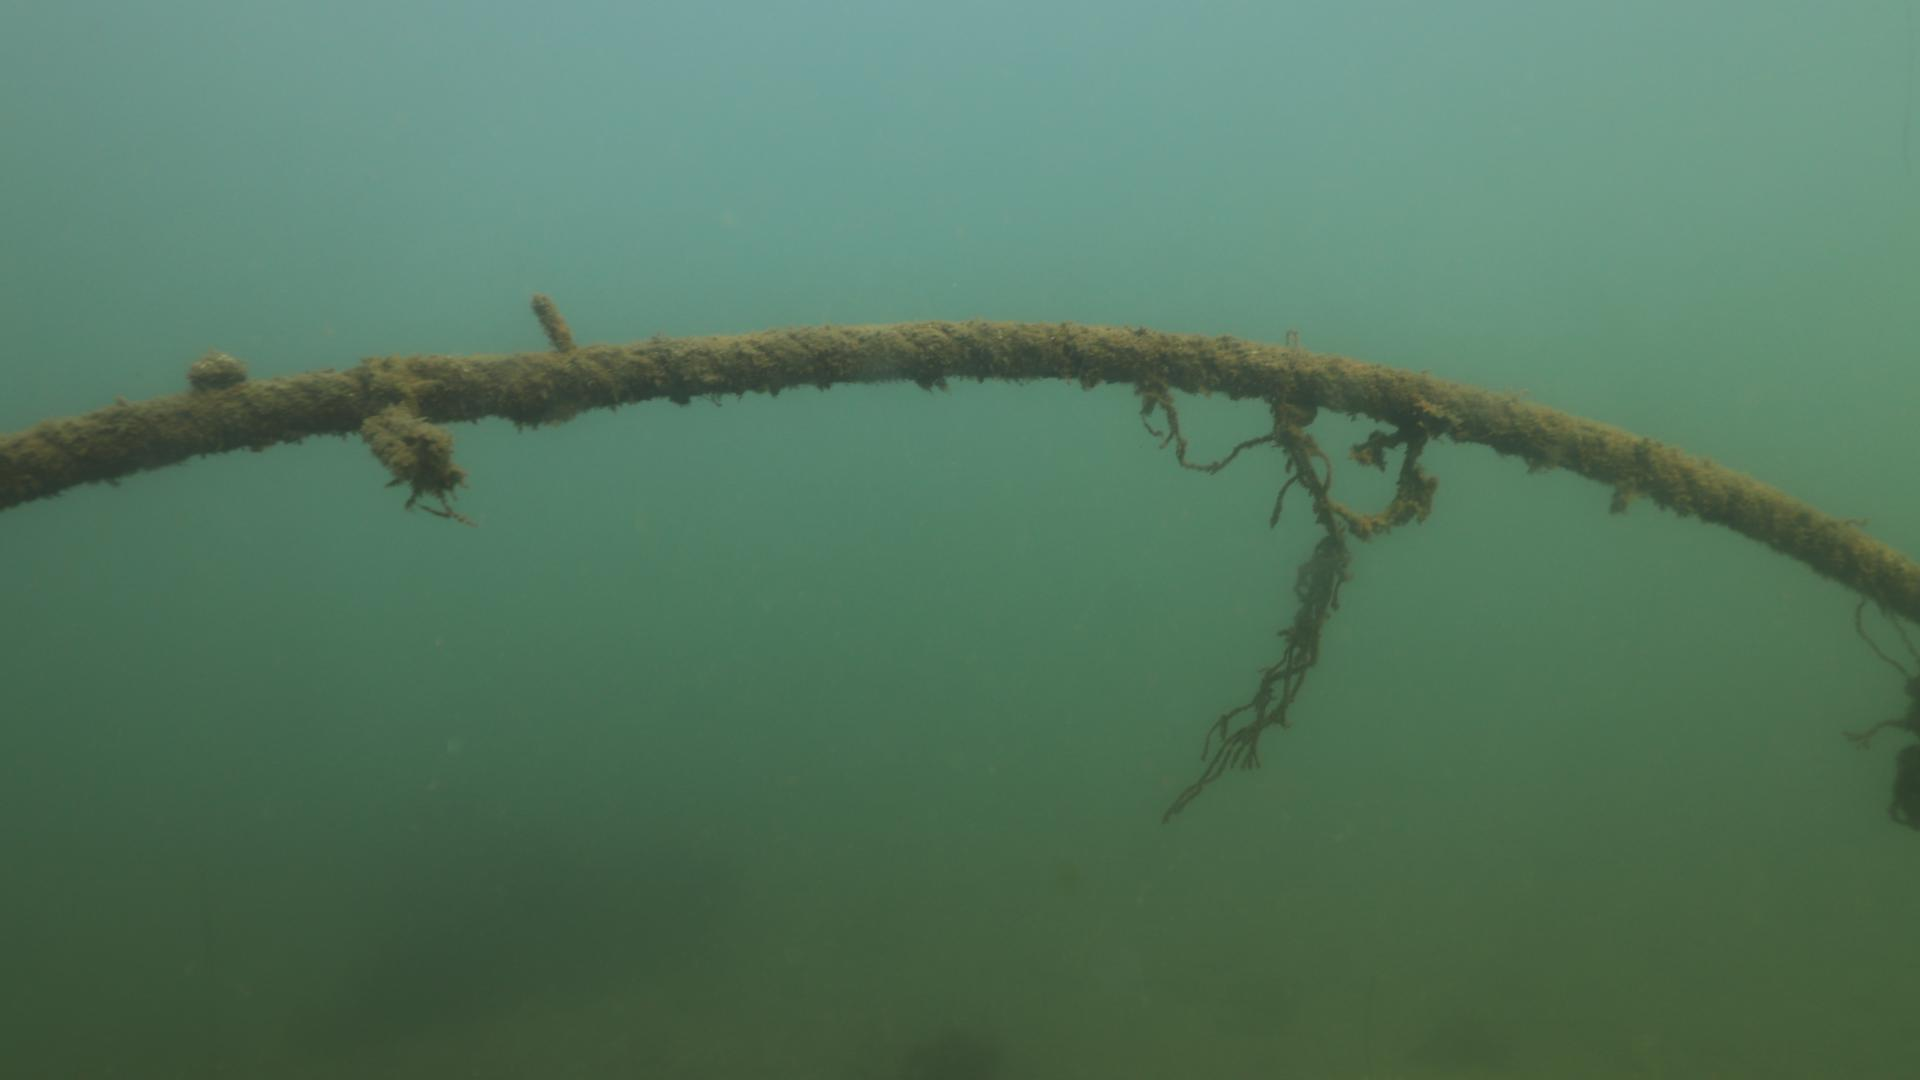rope: (0, 320, 1920, 638)
